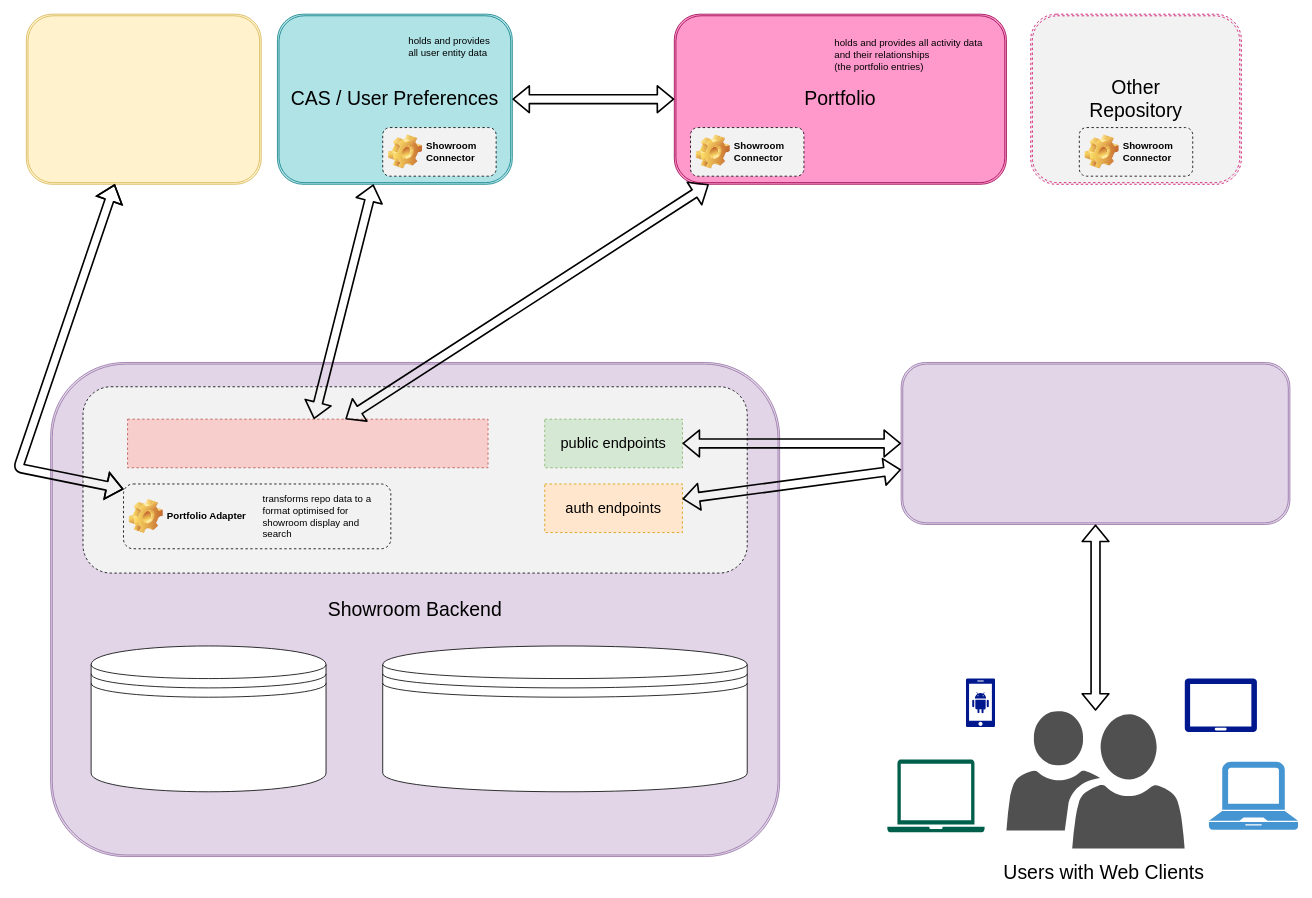
This 1312x898 diagram has some shape labels left out. Here are the shapes that lost their labels. From the top down, the centre of each, then its label:
At (x=143, y=98): "SKOSmos / Controlled Vocabulary".
At (x=307, y=443): "repo endpoints".
At (x=1095, y=443): "Showroom Frontend".
At (x=208, y=718): "Redis".
At (x=564, y=718): "PostgreSQL".
